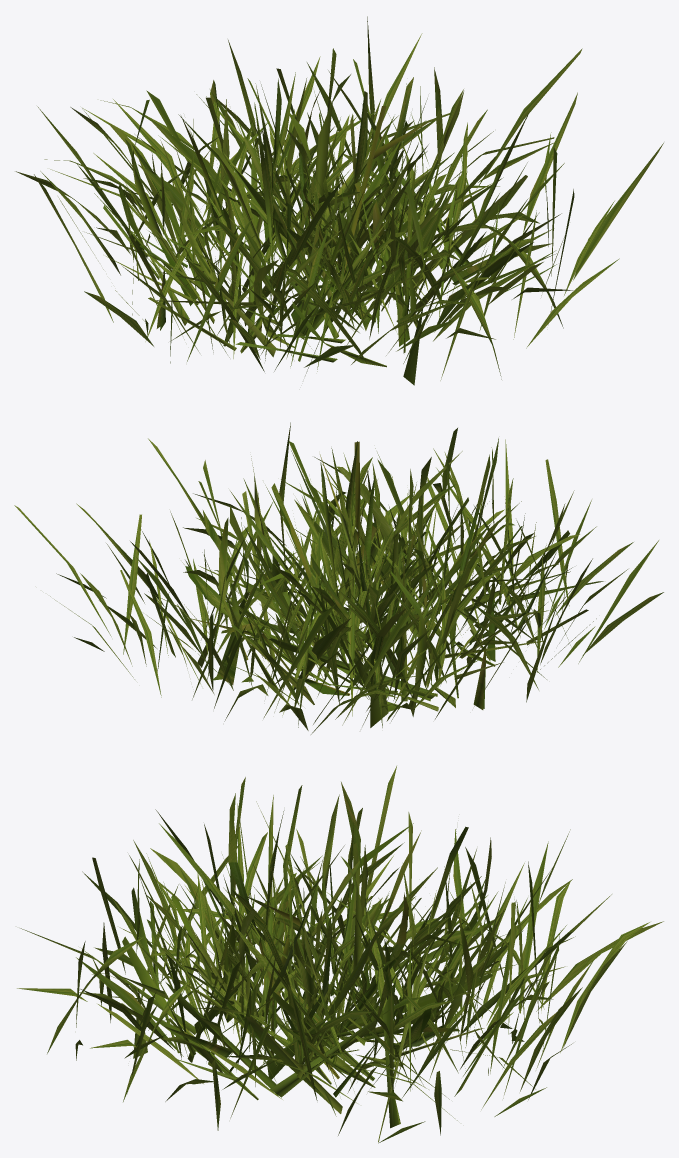
Rendered from Grass_Clump_03.glb.
The picture shows the model from 3 angles, top to bottom: view 1: azimuth 30°, elevation 25°; view 2: azimuth 150°, elevation 25°; view 3: azimuth 270°, elevation 25°; orthographic projection. The views are drawn at different scales.
Parts seen in each view (by area): view 1: Grass_Clump_03; view 2: Grass_Clump_03; view 3: Grass_Clump_03.
Part boxes in pixels (left/top/right/bottom): Grass_Clump_03: left=15, top=16, right=663, bottom=385; Grass_Clump_03: left=14, top=422, right=663, bottom=734; Grass_Clump_03: left=17, top=766, right=663, bottom=1143.
Bounding box in the file's own units: 0.4413 × 0.18 × 0.4173.
1 material, 1 textured.
